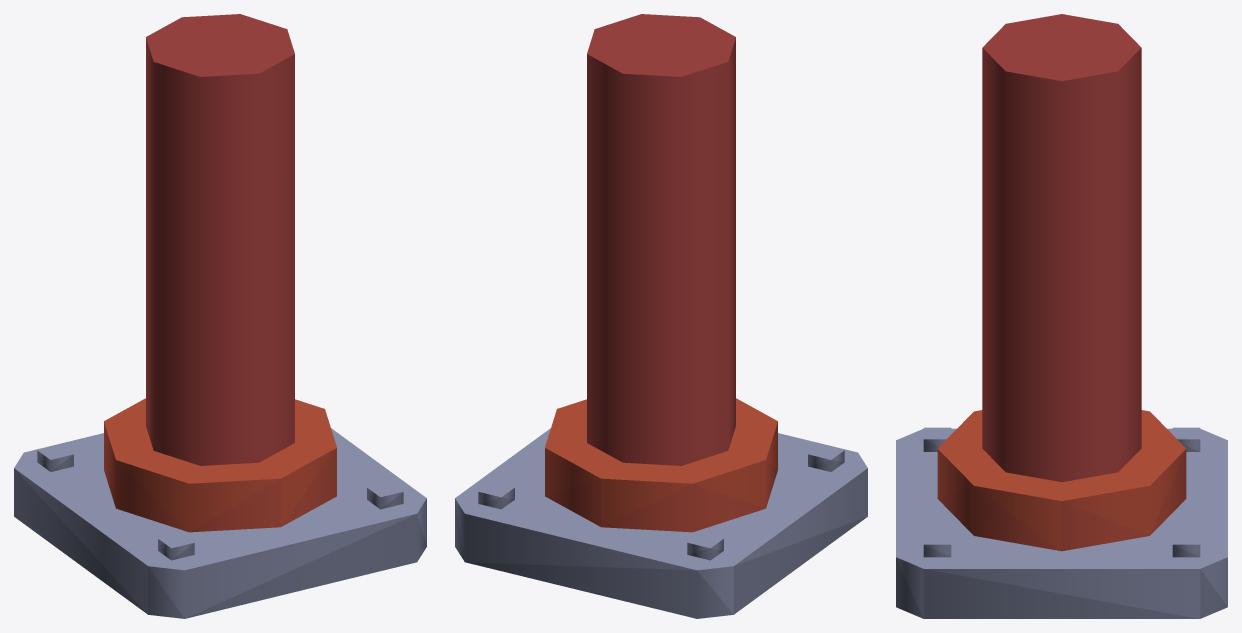
File: coaster_support_small_bottom.glb
The picture shows the model from 3 angles, left to right: view 1: azimuth 30°, elevation 25°; view 2: azimuth 150°, elevation 25°; view 3: azimuth 270°, elevation 25°; orthographic projection. The views are drawn at different scales.
Parts seen in each view (by area): view 1: coaster_support_small_bottom; view 2: coaster_support_small_bottom; view 3: coaster_support_small_bottom.
Boxes of the visible parts, <box> form: coaster_support_small_bottom: <box>14,14,426,618</box>; coaster_support_small_bottom: <box>455,14,867,618</box>; coaster_support_small_bottom: <box>896,14,1227,618</box>.
Bounding box in the file's own units: 0.6 × 1 × 0.6.
